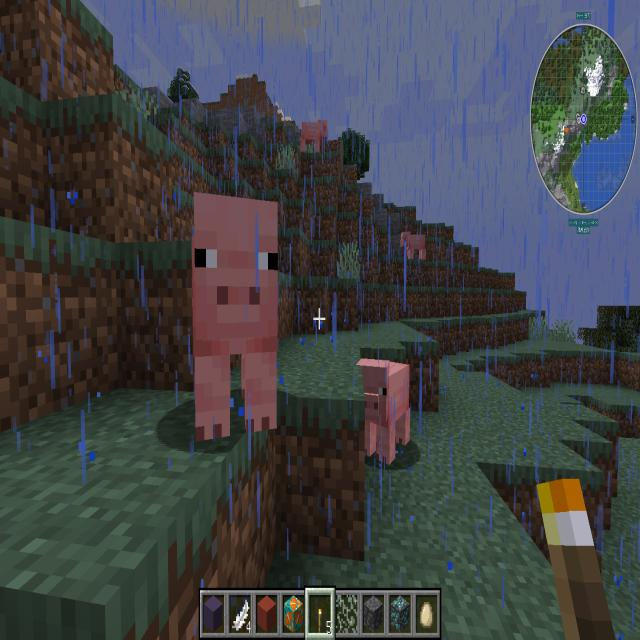pig: (182, 180, 287, 449), (351, 339, 417, 466), (294, 108, 335, 159), (398, 223, 433, 271)
